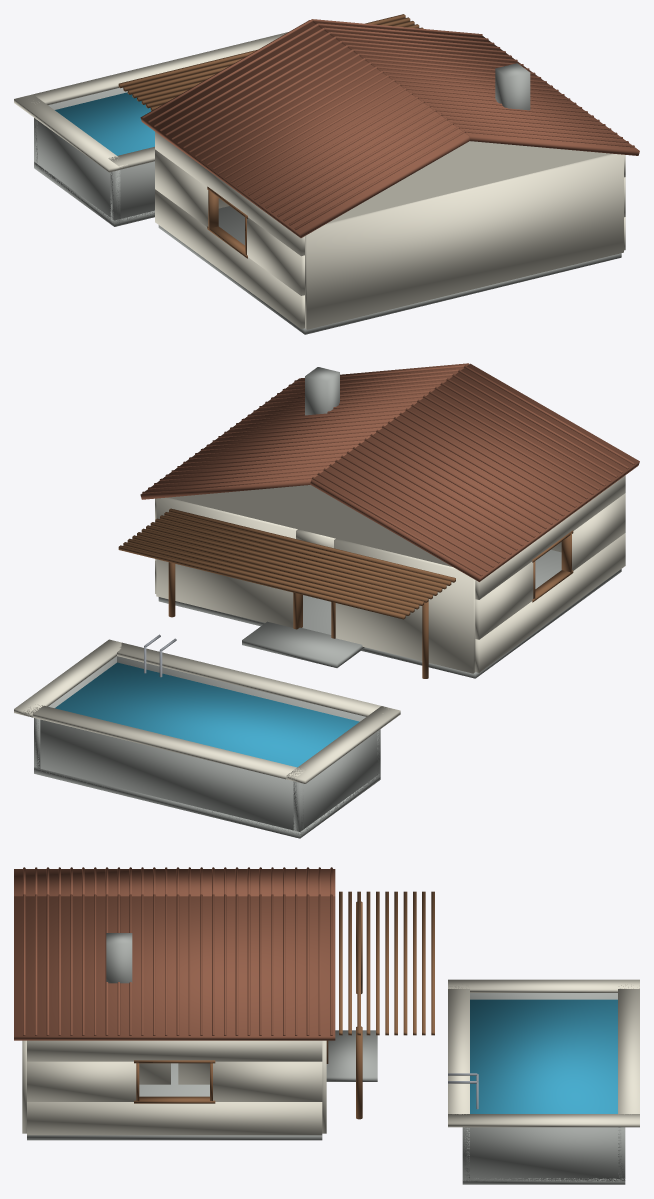
The model's file is beach_villa_pool_v1_v2.glb.
The picture shows the model from 3 angles, top to bottom: view 1: azimuth 30°, elevation 25°; view 2: azimuth 150°, elevation 25°; view 3: azimuth 270°, elevation 25°; orthographic projection.
Parts seen in each view (by area): view 1: SM_beach_villa_pool_v1; view 2: SM_beach_villa_pool_v1; view 3: SM_beach_villa_pool_v1.
Boxes of the visible parts, x1,y1,x2,y2 form: SM_beach_villa_pool_v1: (14,14,639,334); SM_beach_villa_pool_v1: (14,363,639,838); SM_beach_villa_pool_v1: (14,867,639,1184).
Size of the model in its own units: 10.75 by 6.8 by 16.95.
